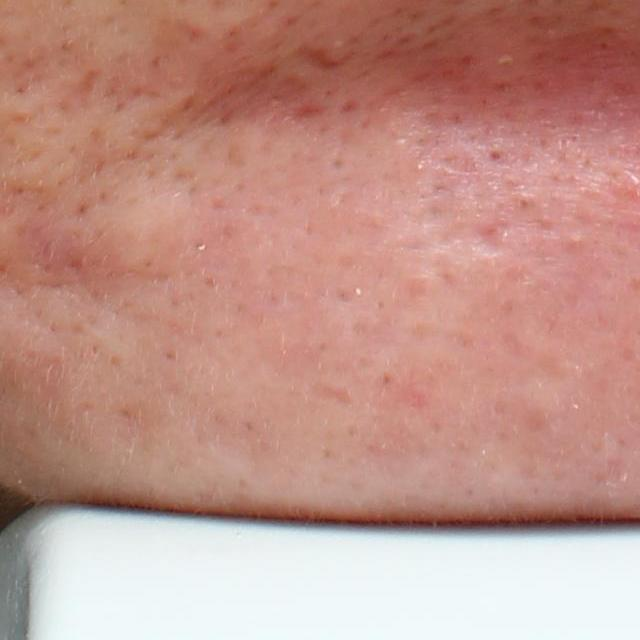atrophic_scar: (428, 221, 506, 259), (54, 66, 101, 112), (290, 42, 355, 72), (307, 383, 357, 410)
comedo: (486, 146, 507, 167)
hypertrophic_scar: (70, 177, 205, 286)
